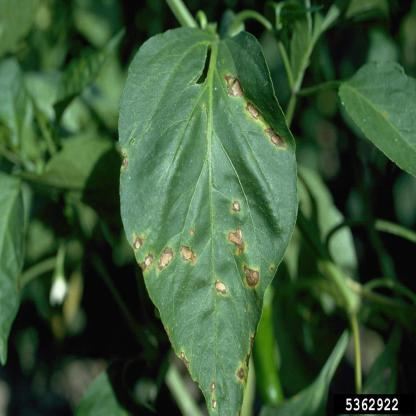bell pepper leaf spot: (111, 31, 299, 416)
